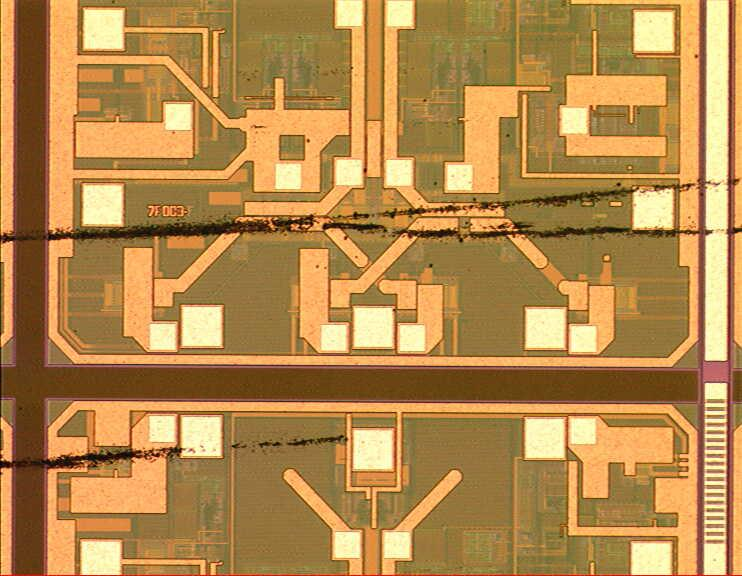SCRATCH: (1, 170, 742, 478)
